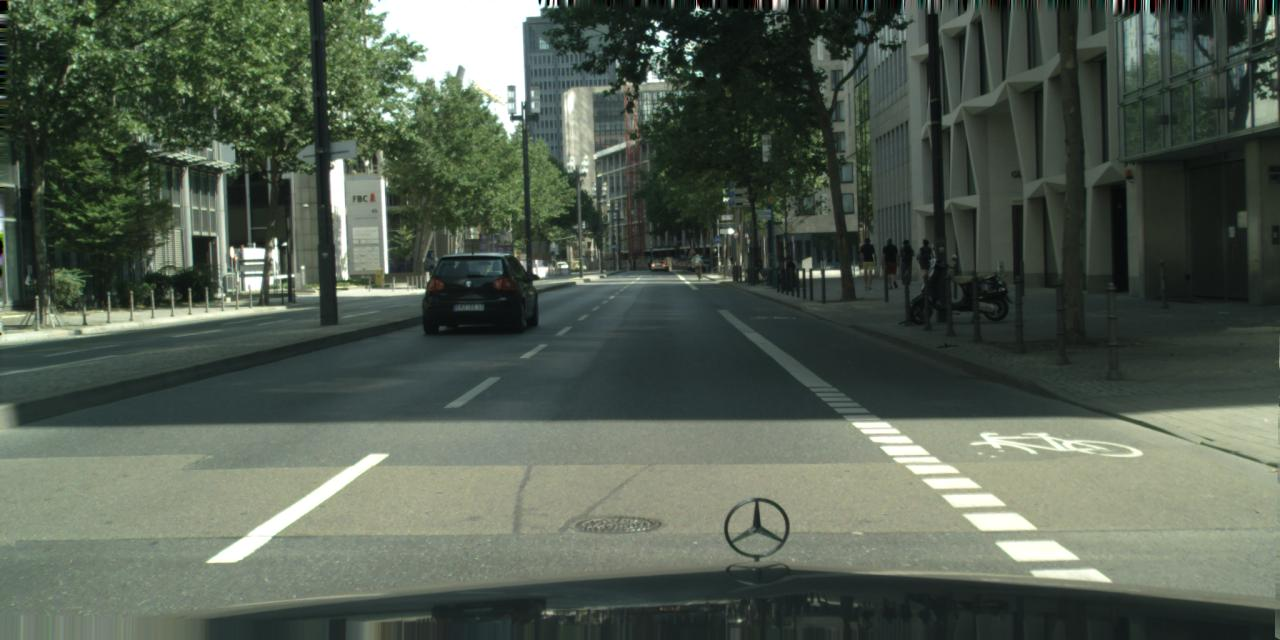ped: (856, 238, 878, 290), (880, 236, 901, 288), (896, 240, 916, 292), (916, 238, 936, 289), (693, 254, 702, 275)
